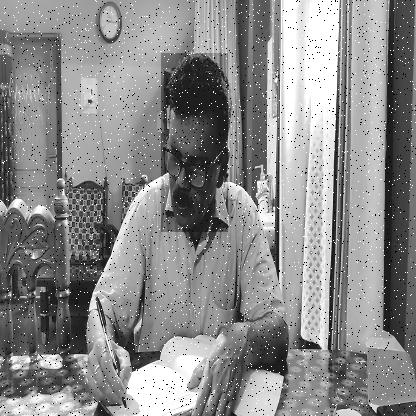Normal: (161, 53, 228, 232)
